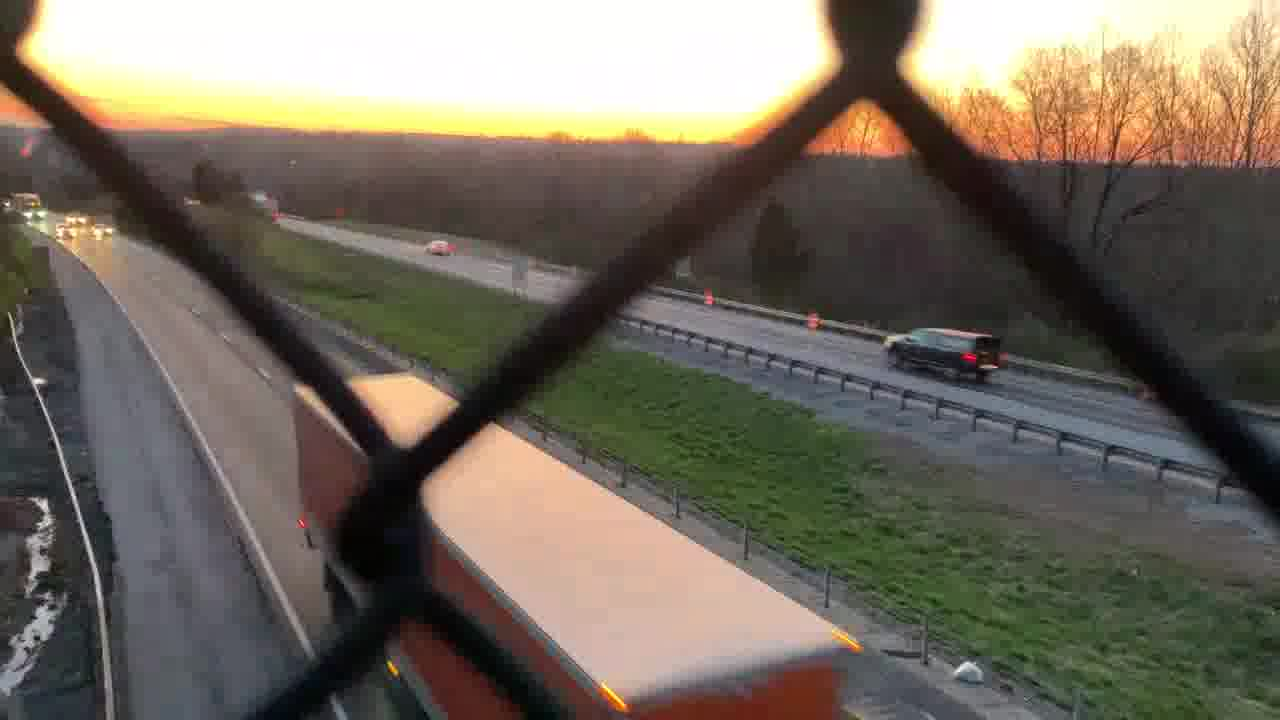heavyTruck: (286, 369, 871, 720)
largeCar: (883, 314, 1006, 385)
